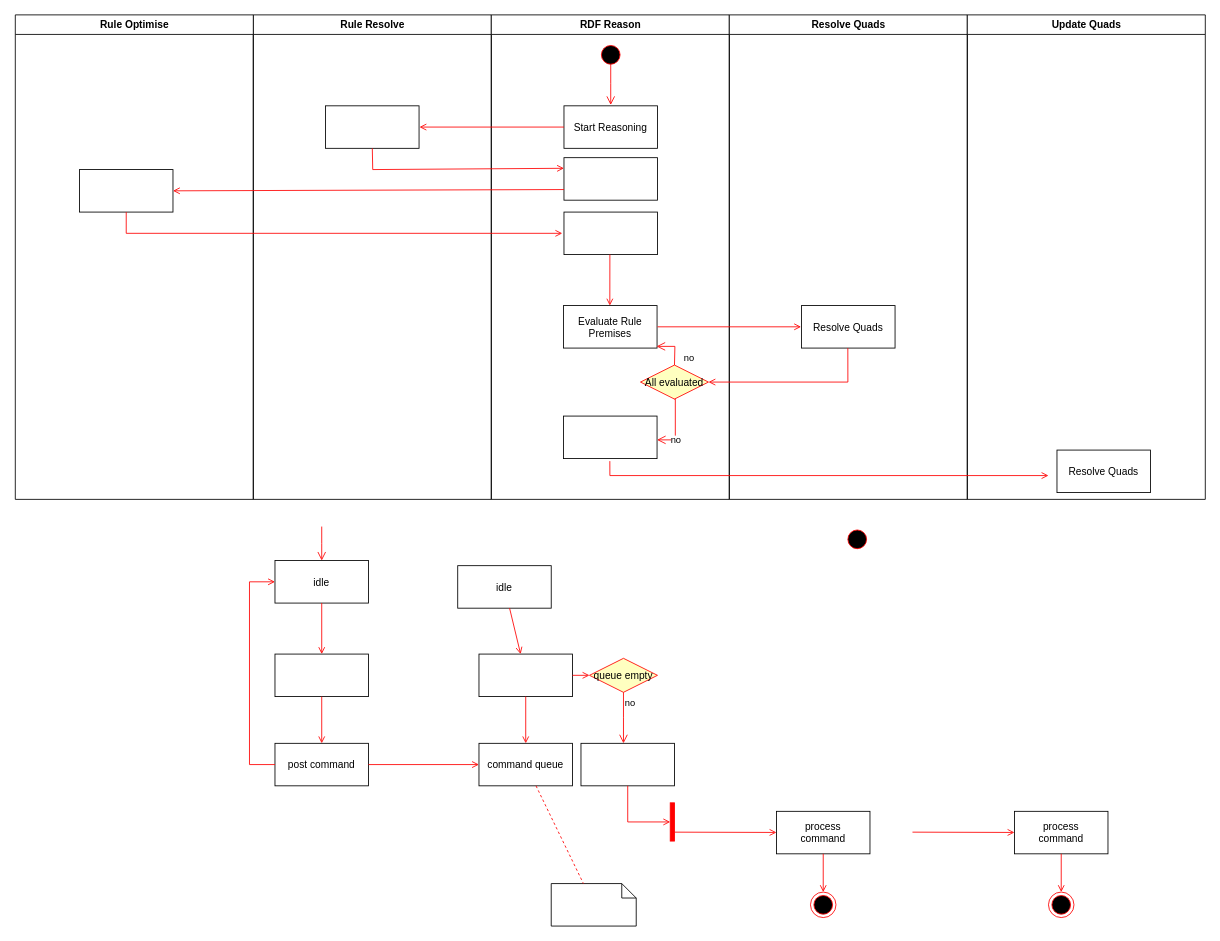
The diagram is 1220 pixels wide and 941 high, and some of its shapes have lost their labels. Each missing label, with the centre of its shape:
check for new commands: pixel 525 675
critical section: pixel 593 904
dispatch command worker thread: pixel 627 764
Generate Concusion: pixel 610 437
Optimise Rules: pixel 126 190
Reason: pixel 610 233
Resolve Rules: pixel 372 126
user action: pixel 321 675
